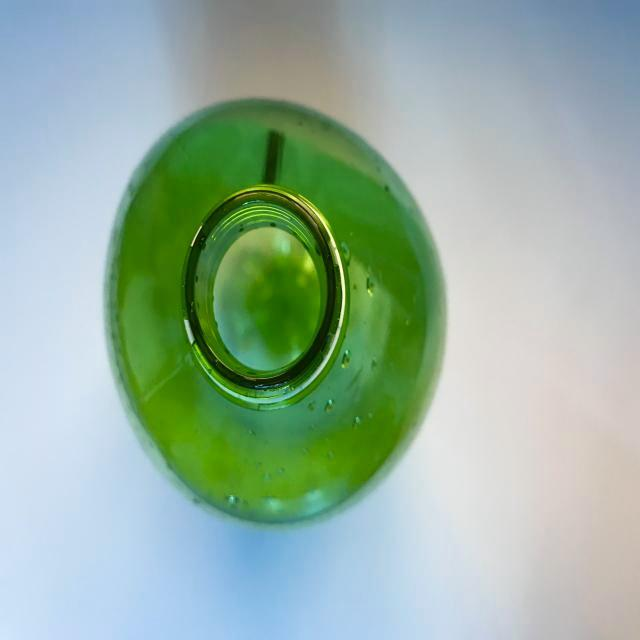plastic: (55, 73, 498, 545)
